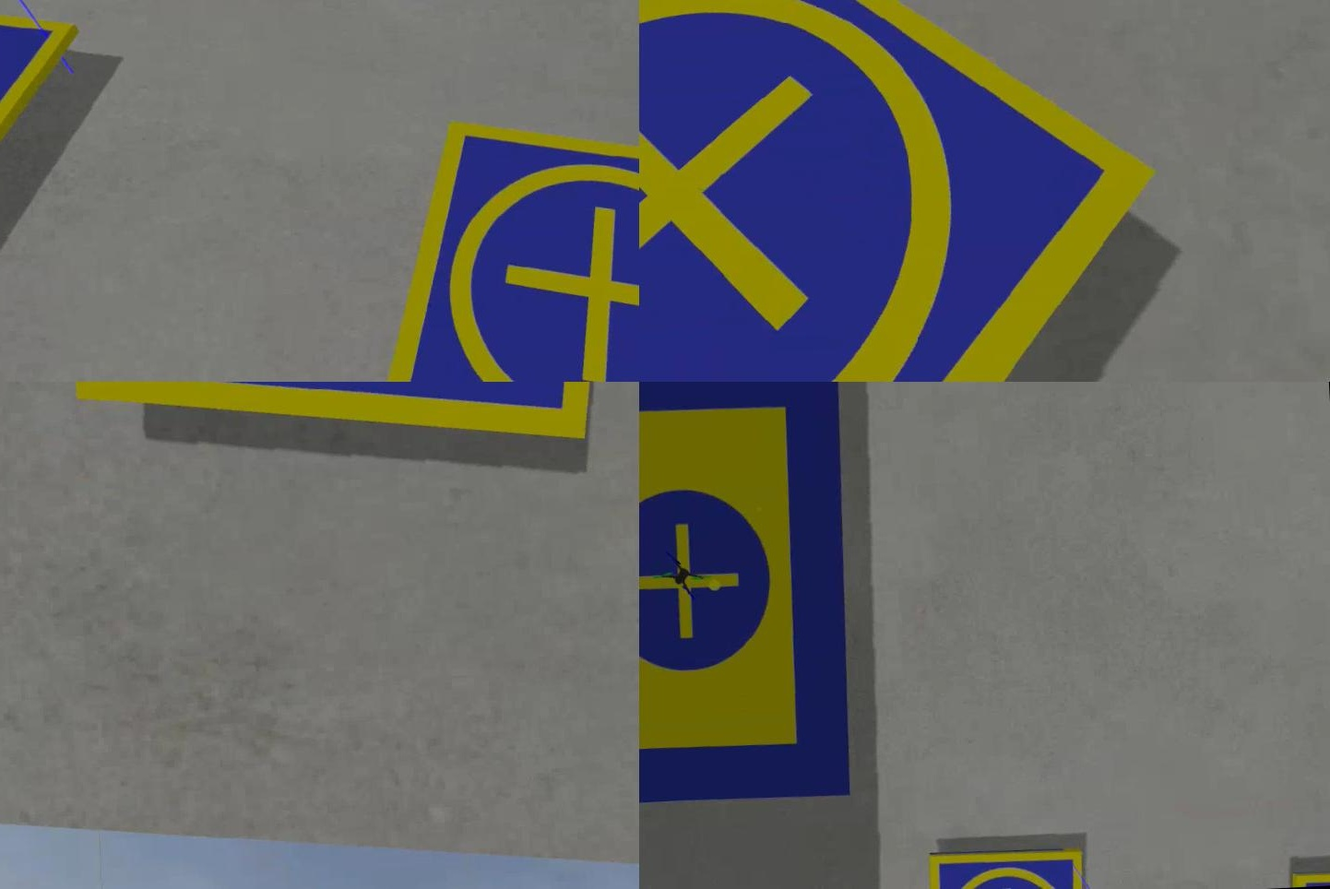large_base: (637, 382, 859, 816)
small_base: (637, 1, 1170, 382), (352, 106, 637, 382), (54, 382, 637, 472), (0, 1, 89, 277), (924, 846, 1085, 889)
